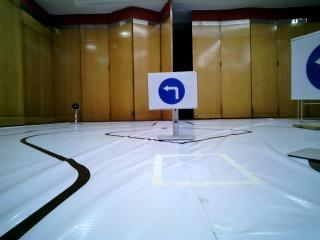left: (153, 74, 196, 107)
